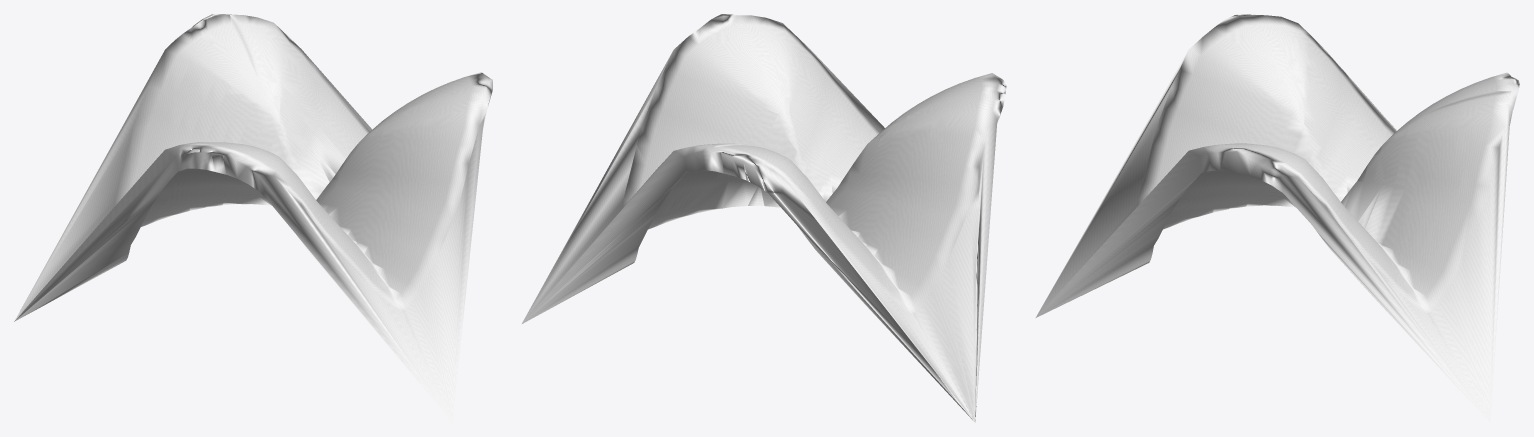
The model's file is Losa.obj.
3 views of the same model, side by side, from view 1: azimuth 30°, elevation 25°; view 2: azimuth 150°, elevation 25°; view 3: azimuth 270°, elevation 25° (orthographic).
Parts seen in each view (by area): view 1: Losa:Mesh1Model; view 2: Losa:Mesh1Model; view 3: Losa:Mesh1Model.
Boxes of the visible parts, x1,y1,x2,y2 form: Losa:Mesh1Model: (14, 14, 492, 422); Losa:Mesh1Model: (522, 14, 1006, 422); Losa:Mesh1Model: (1035, 14, 1519, 422).
Size of the model in its own units: 31.3 by 15.96 by 29.73.
Materials: 1 (1 with a texture image).
